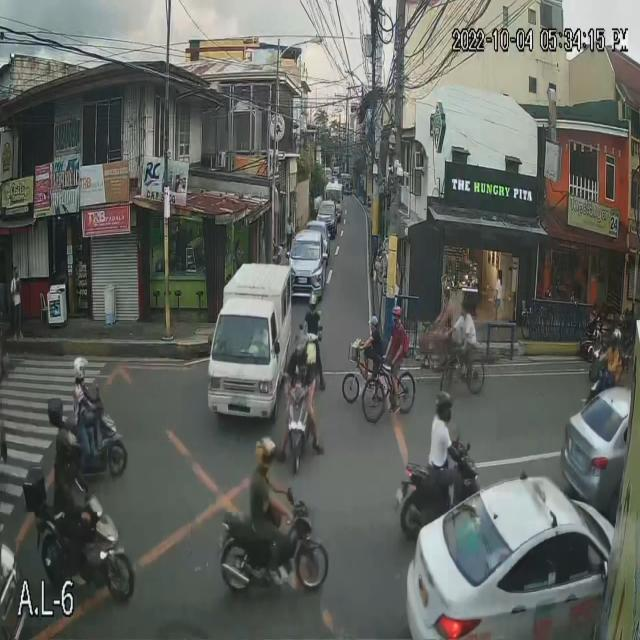Full-Faced: (429, 388, 458, 430), (251, 429, 279, 472), (56, 424, 81, 462), (68, 351, 90, 386), (293, 333, 312, 363), (310, 293, 319, 312)
